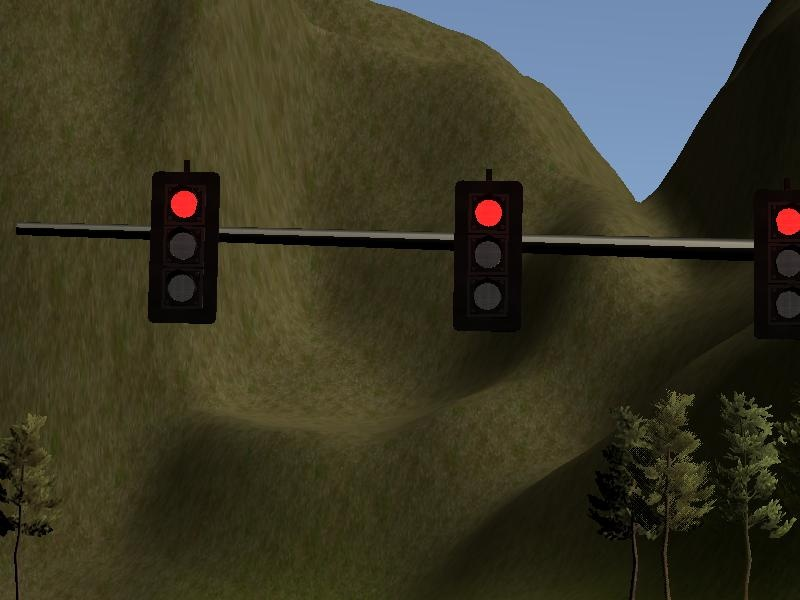RED: (148, 170, 216, 321), (451, 181, 519, 332), (753, 189, 800, 338)
